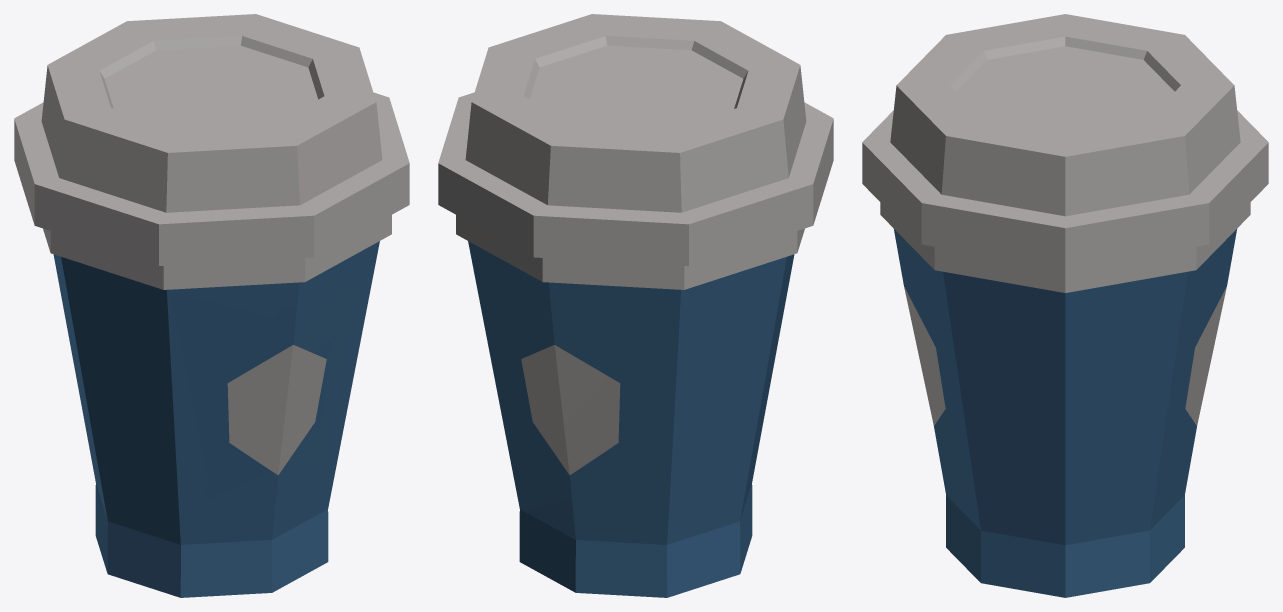
Rendered from coffee.glb.
3 renders of one model, left to right at view 1: azimuth 30°, elevation 25°; view 2: azimuth 150°, elevation 25°; view 3: azimuth 270°, elevation 25°, orthographic.
Parts seen in each view (by area): view 1: SM_Prop_Cup_Coffee_Disposable_Closed_01; view 2: SM_Prop_Cup_Coffee_Disposable_Closed_01; view 3: SM_Prop_Cup_Coffee_Disposable_Closed_01.
Boxes of the visible parts, <box> form: SM_Prop_Cup_Coffee_Disposable_Closed_01: <box>14,14,409,597</box>; SM_Prop_Cup_Coffee_Disposable_Closed_01: <box>438,14,833,597</box>; SM_Prop_Cup_Coffee_Disposable_Closed_01: <box>862,14,1268,597</box>.
Size of the model in its own units: 1.8 by 2.25 by 1.8.
Materials: 1 (1 with a texture image).
